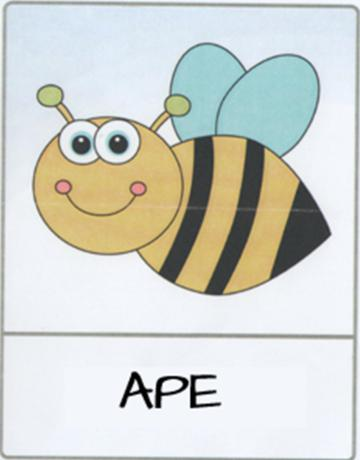ape: (2, 1, 357, 458)
